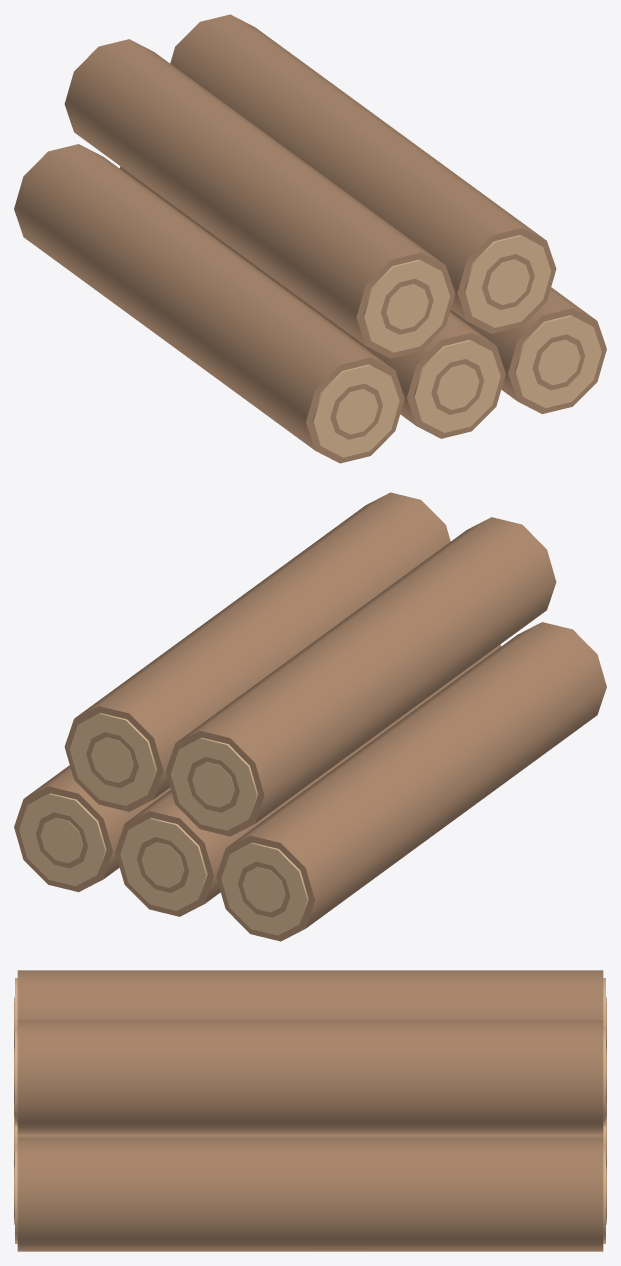
File: cover-timber-clean.glb
The picture shows the model from 3 angles, top to bottom: view 1: azimuth 30°, elevation 25°; view 2: azimuth 150°, elevation 25°; view 3: azimuth 270°, elevation 25°; orthographic projection.
Parts seen in each view (by area): view 1: cover-timber-kit-clean-wood, cover-timber-kit-clean-end; view 2: cover-timber-kit-clean-wood, cover-timber-kit-clean-end; view 3: cover-timber-kit-clean-wood, cover-timber-kit-clean-end.
Boxes of the visible parts, bbox=[...] form: cover-timber-kit-clean-wood: bbox=[14, 14, 606, 463]; cover-timber-kit-clean-end: bbox=[312, 235, 601, 457]; cover-timber-kit-clean-wood: bbox=[14, 492, 606, 941]; cover-timber-kit-clean-end: bbox=[19, 713, 308, 935]; cover-timber-kit-clean-wood: bbox=[14, 970, 606, 1251]; cover-timber-kit-clean-end: bbox=[14, 978, 606, 1243].
Bounding box in the file's own units: 1.43 × 0.867 × 2.43.
